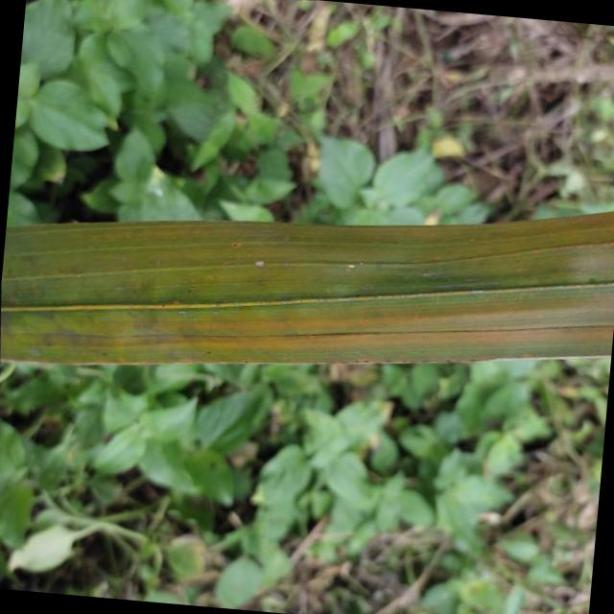Megnesium: (3, 207, 614, 361)
